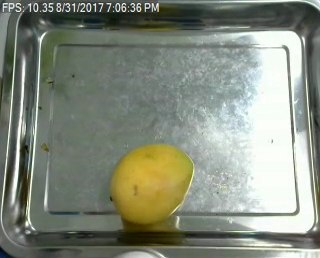Mango: (109, 146, 193, 224)
